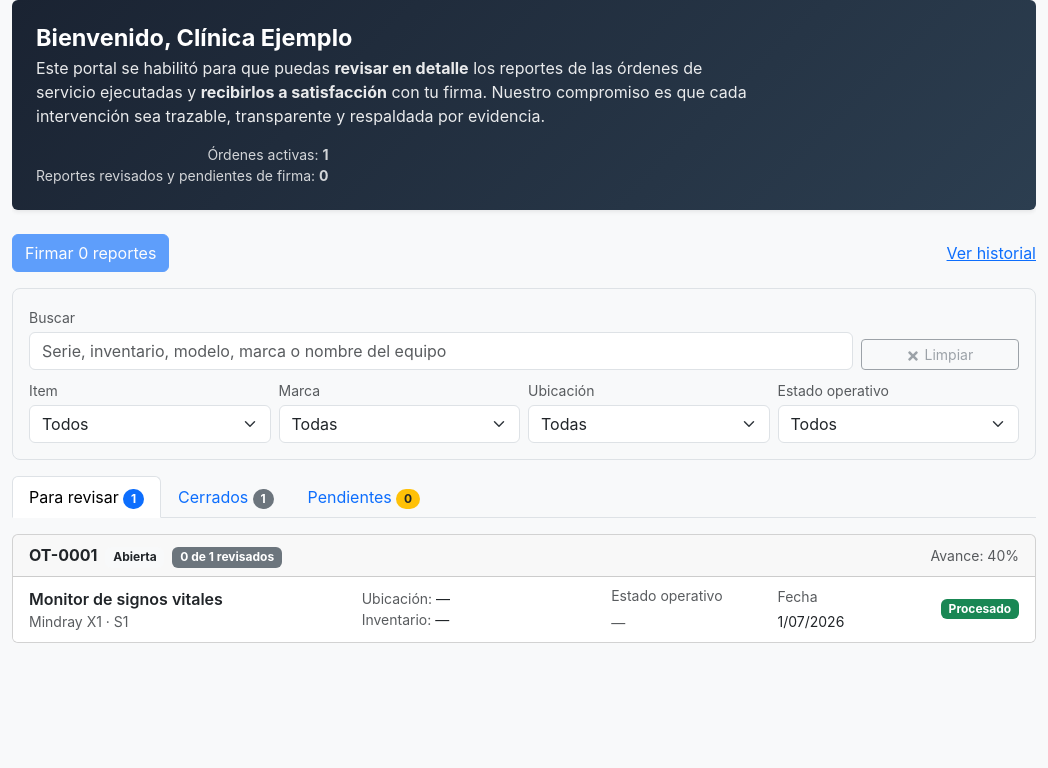
Scenario: PortalHome › Cerrados tab exposes Cerrado reports on demand
The image size is (1048, 768).
Click the tab "Cerrados 1" at (226, 497), box [161,476,290,518]
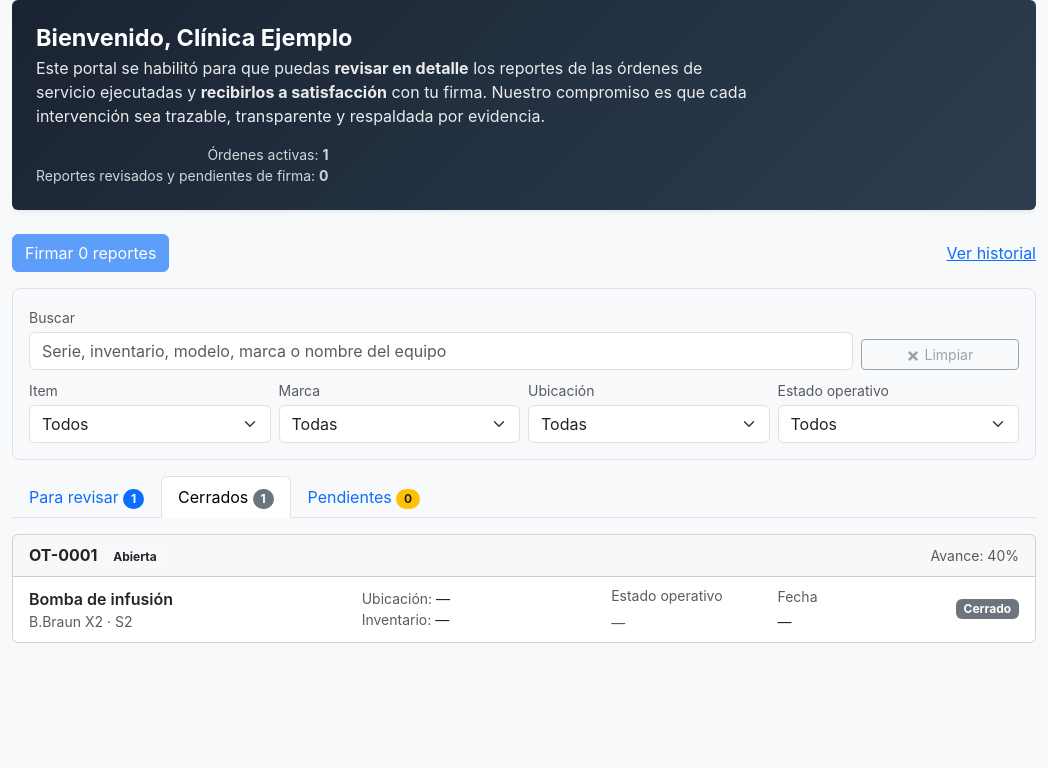
Now the button "Bomba de infusión" is shown, box [13,576,1035,642]
